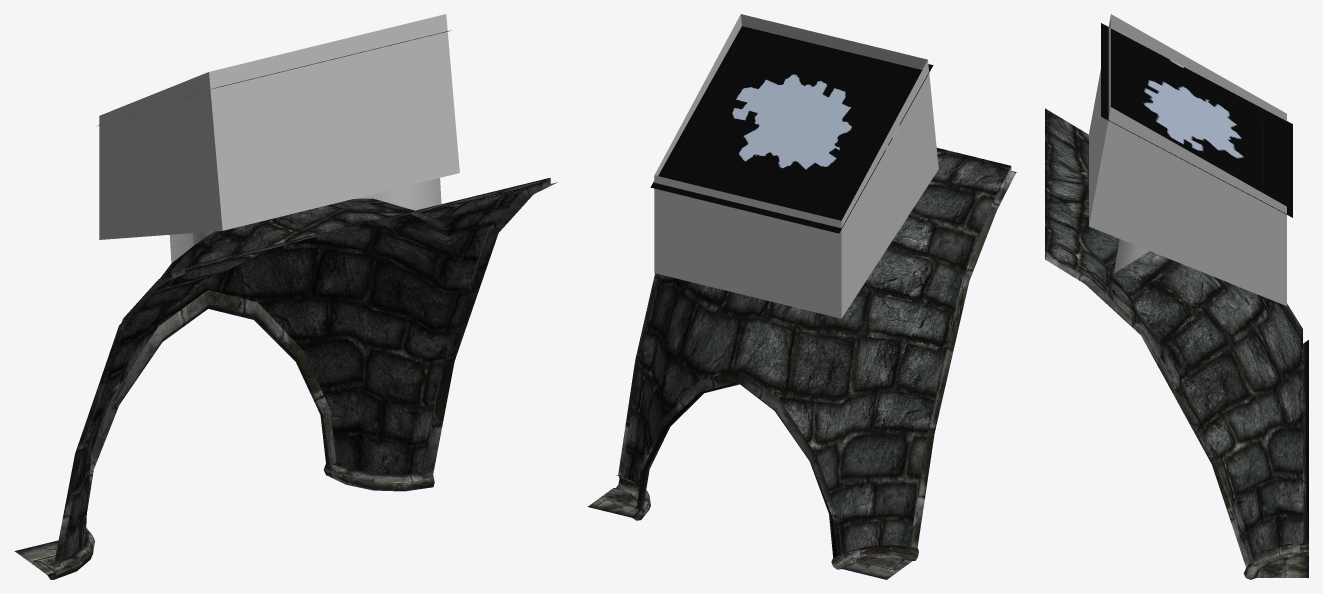
File: arched_square_bricks_broken.dae
The picture shows the model from 3 angles, left to right: view 1: azimuth 30°, elevation 25°; view 2: azimuth 150°, elevation 25°; view 3: azimuth 270°, elevation 25°; orthographic projection. The views are drawn at different scales.
Parts seen in each view (by area): view 1: pCube1, polySurface193, polySurface187, polySurface192; view 2: polySurface193, pPlane1, pCube1, polySurface187; view 3: polySurface193, pCube1, pPlane1, polySurface187, polySurface192.
Part boxes in pixels (x1,y1,x2,y2): pCube1: (99, 14, 459, 239); polySurface193: (61, 178, 549, 559); polySurface187: (14, 178, 557, 579); polySurface192: (169, 178, 441, 263); polySurface193: (622, 148, 1010, 554); pPlane1: (650, 26, 933, 233); pCube1: (654, 14, 938, 318); polySurface187: (588, 166, 1016, 579); polySurface193: (1045, 108, 1303, 562); pCube1: (1089, 14, 1286, 305); pPlane1: (1101, 23, 1292, 217); polySurface187: (1045, 251, 1308, 579); polySurface192: (1114, 239, 1149, 273).
Bounding box in the file's own units: 4 × 5.58 × 3.
